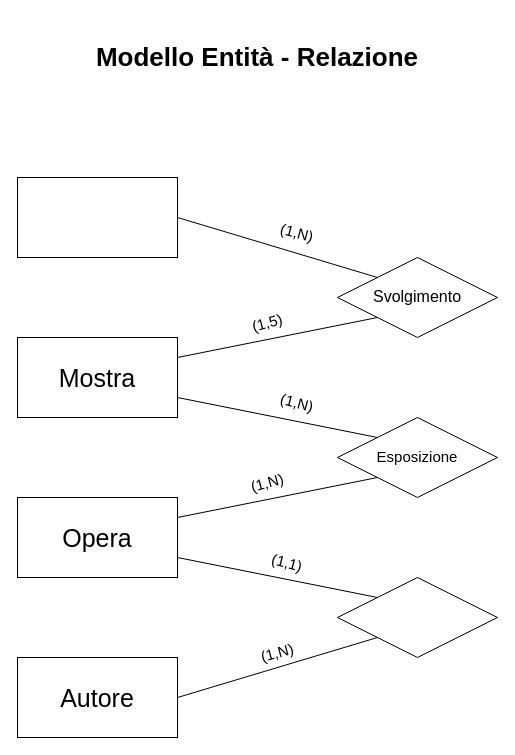
Image size: 515x755. Some labels were removed from this diagram. The box of each missing label's shape, as (x1, y1, x2, y2) in pixels:
Realizzazione: (336, 576, 498, 658)
Stanza: (16, 176, 178, 258)
